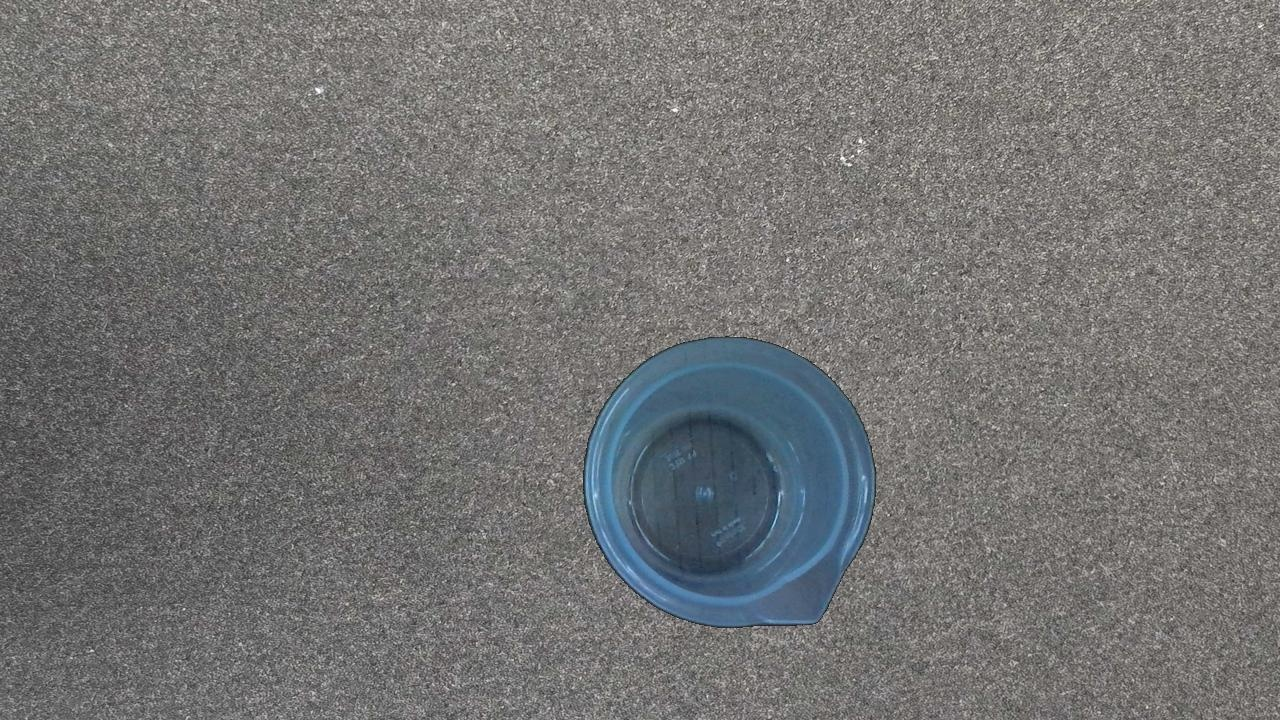cup: (582, 335, 877, 628)
